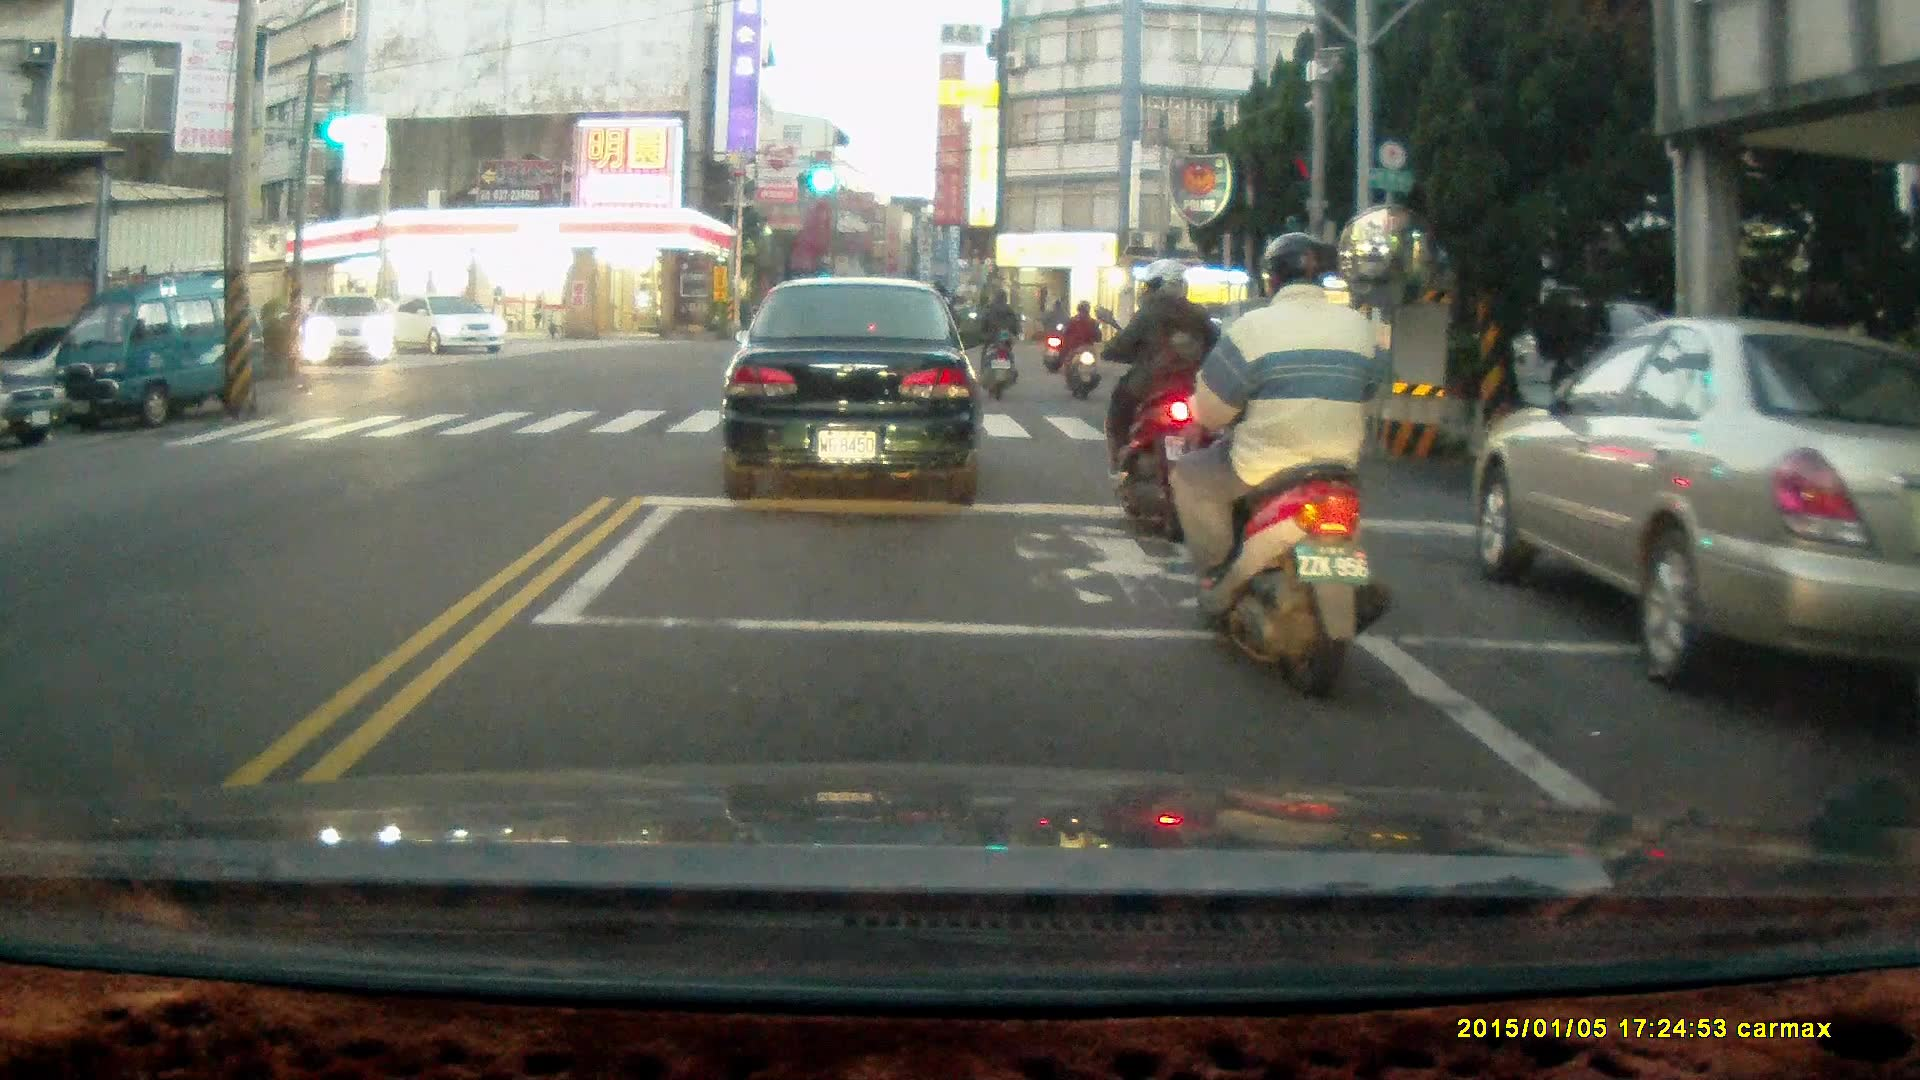rider: (1176, 228, 1399, 702), (1088, 257, 1224, 543), (967, 284, 1024, 399), (1060, 299, 1104, 400), (1039, 297, 1070, 372)
vehicle: (1468, 310, 1920, 706), (716, 275, 985, 507), (35, 263, 223, 430), (391, 289, 504, 361), (302, 297, 402, 372)
